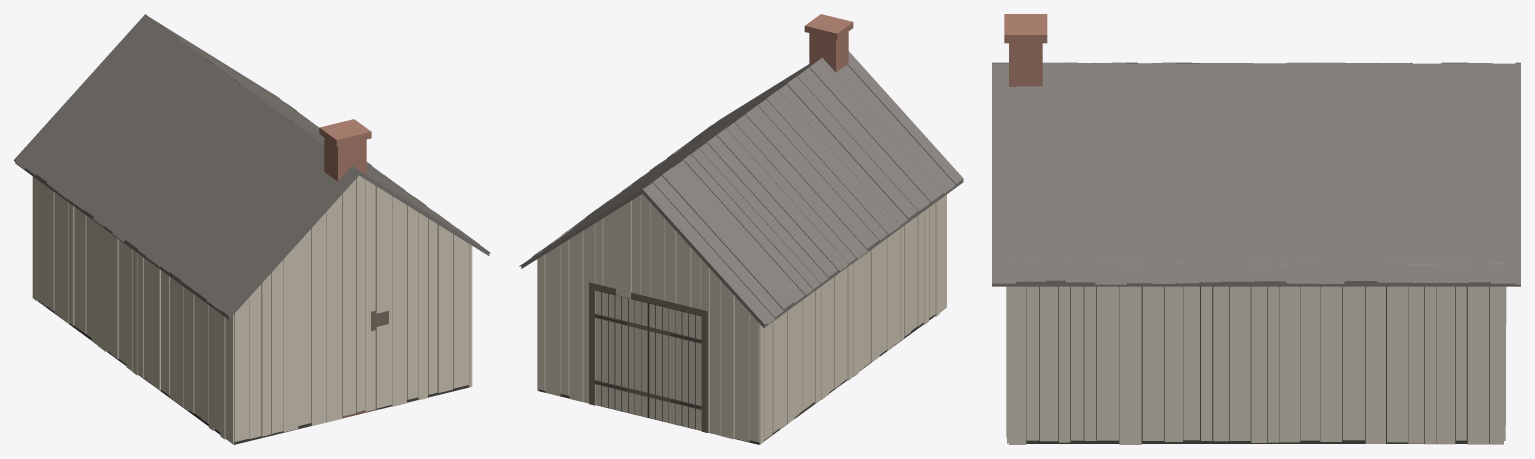
File: recon_1835_canal_trade_w1_003__inferred_1835.glb
3 views of the same model, side by side, from view 1: azimuth 30°, elevation 25°; view 2: azimuth 150°, elevation 25°; view 3: azimuth 270°, elevation 25° (orthographic). The views are drawn at different scales.
Visible parts, largest first — view 1: recon_1835_canal_trade_w1_003__inferred_1835; view 2: recon_1835_canal_trade_w1_003__inferred_1835; view 3: recon_1835_canal_trade_w1_003__inferred_1835.
Boxes of the visible parts, x1=… form: recon_1835_canal_trade_w1_003__inferred_1835: x1=14, y1=14, x2=490, y2=444; recon_1835_canal_trade_w1_003__inferred_1835: x1=519, y1=14, x2=963, y2=444; recon_1835_canal_trade_w1_003__inferred_1835: x1=992, y1=14, x2=1520, y2=444.
Size of the model in its own units: 6.69 by 6.8 by 9.37.
